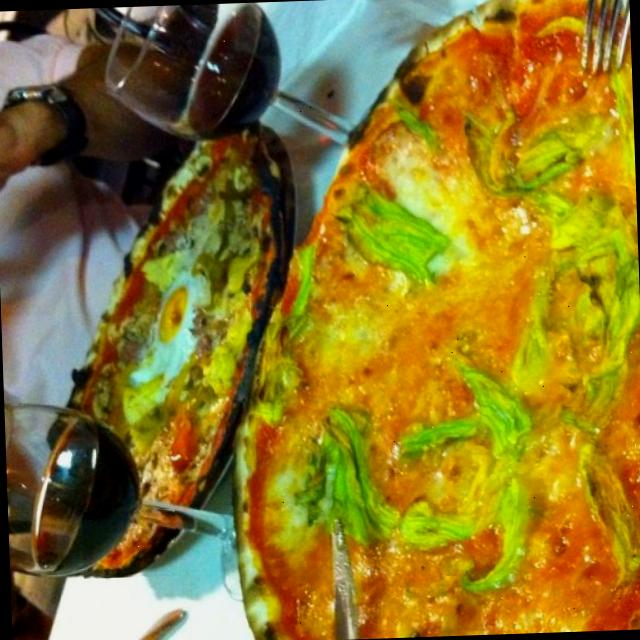pizza: (235, 0, 640, 640), (83, 509, 173, 576)
